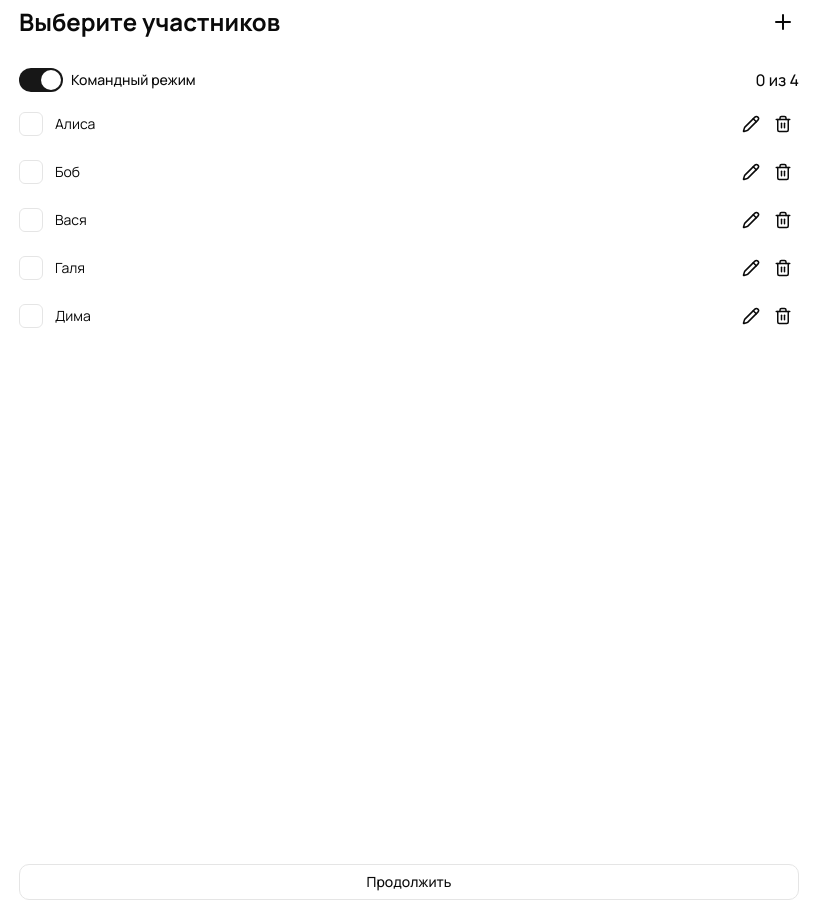
Test: Participants page › находит ту же команду, если сохранённая пара стала красными
Step 1. Click the checkbox named "Боб" next to "Боб" → {"x": 31, "y": 172}, box 19,160 -> 43,184
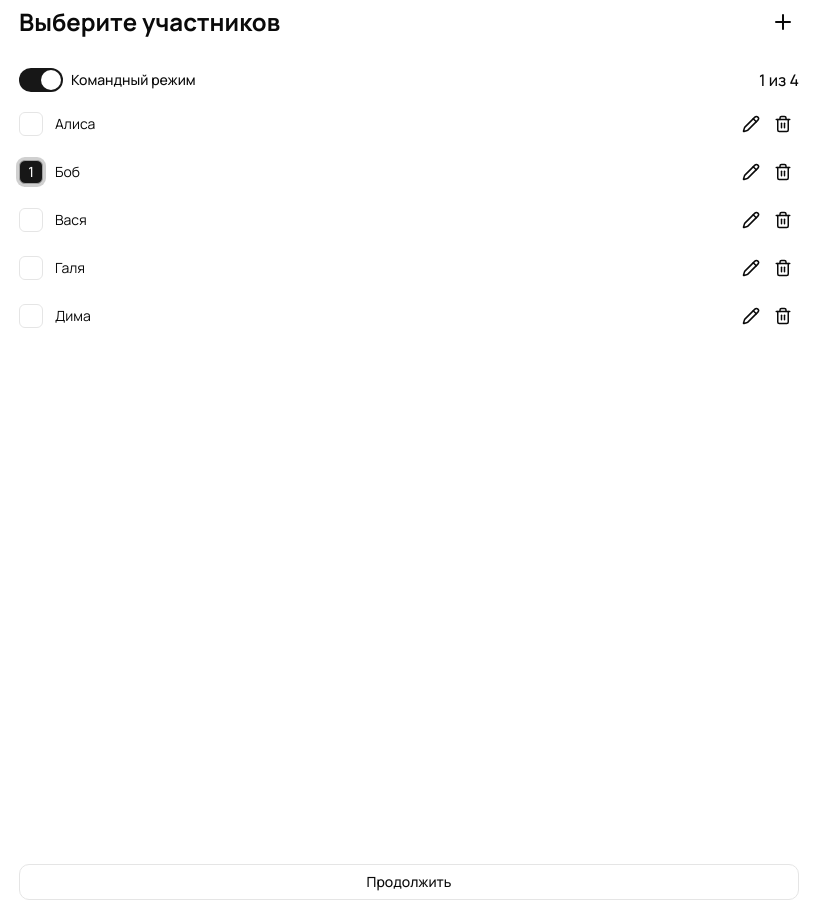
Step 2. Click the checkbox named "Вася" next to "Вася" → {"x": 31, "y": 220}, box 19,208 -> 43,232
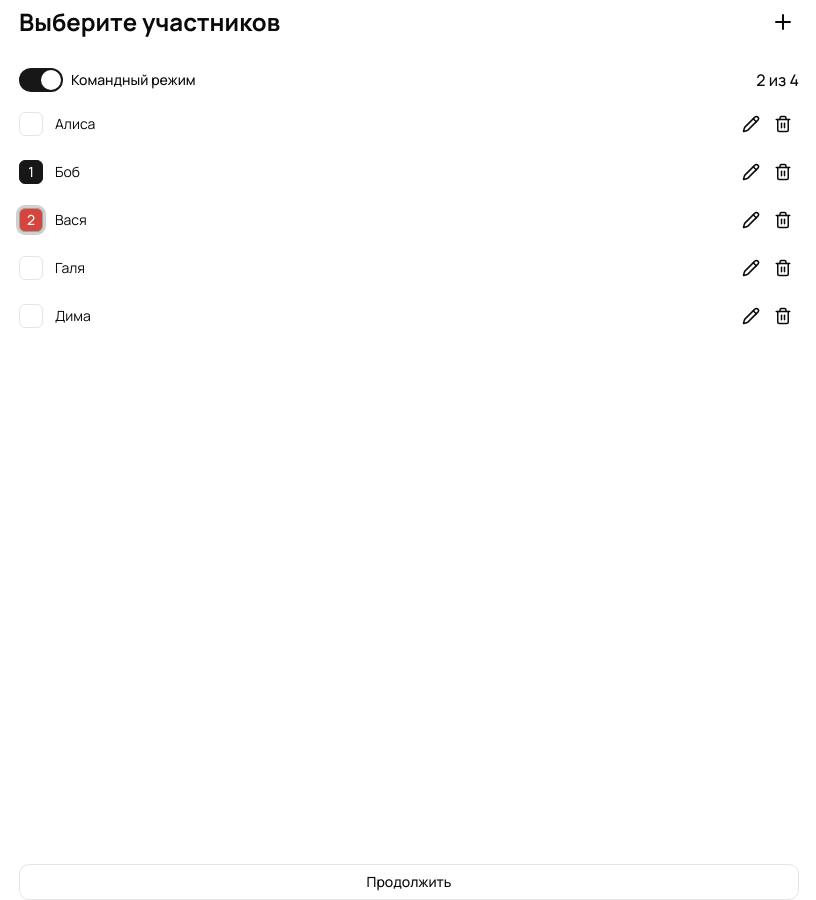
Step 3. Click the checkbox named "Галя" next to "Галя" → {"x": 31, "y": 268}, box 19,256 -> 43,280
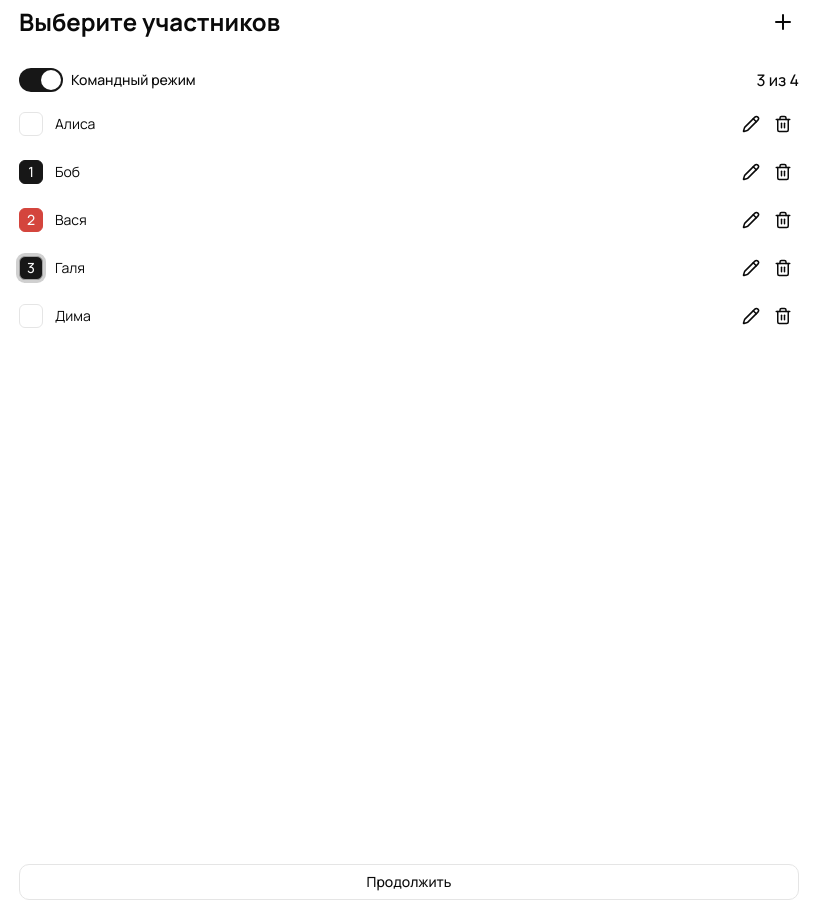
Step 4. Click the checkbox named "Алиса" next to "Алиса" → {"x": 31, "y": 124}, box 19,112 -> 43,136
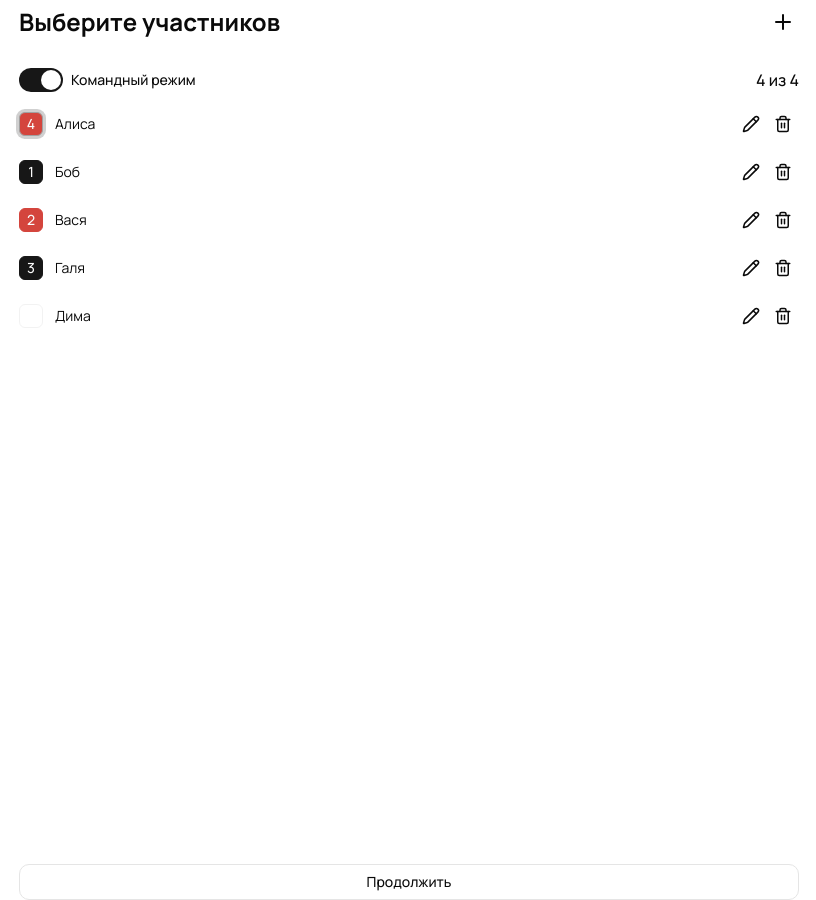
Step 5. Click the button "Продолжить" → {"x": 409, "y": 882}, box 19,864 -> 799,899
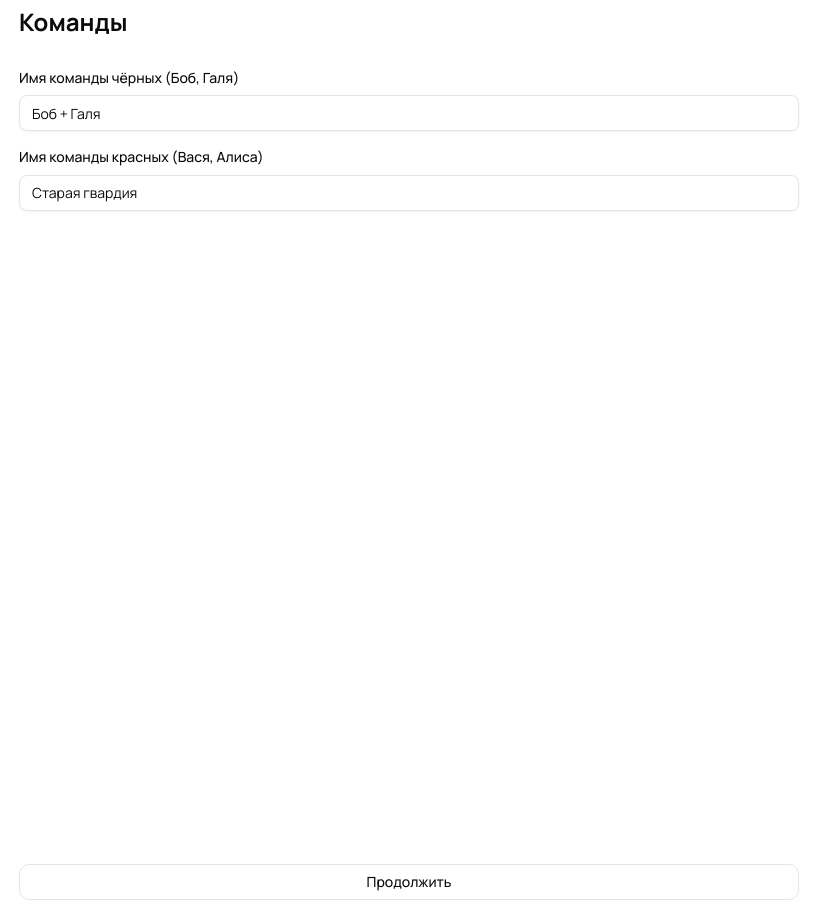
Now the field labelled "Имя команды красных (Вася, Алиса)" holds "Старая гвардия", box 19,174 -> 799,210
